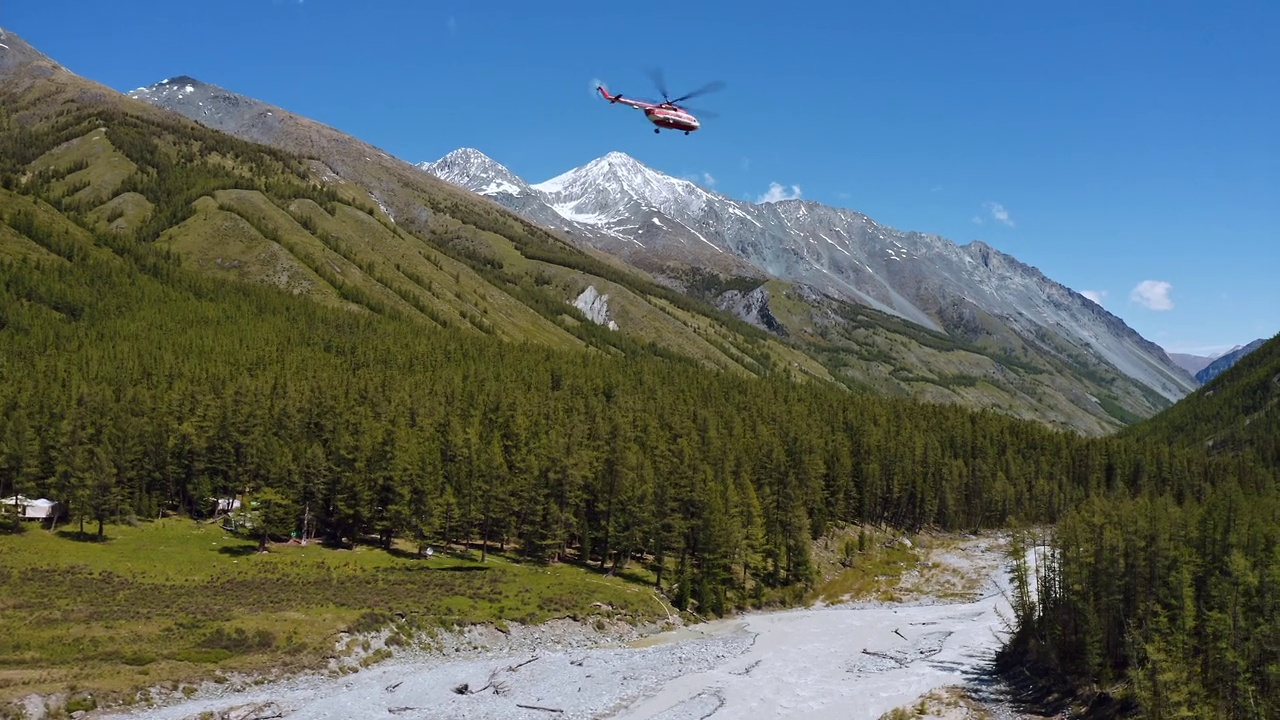heli: (596, 71, 724, 134)
